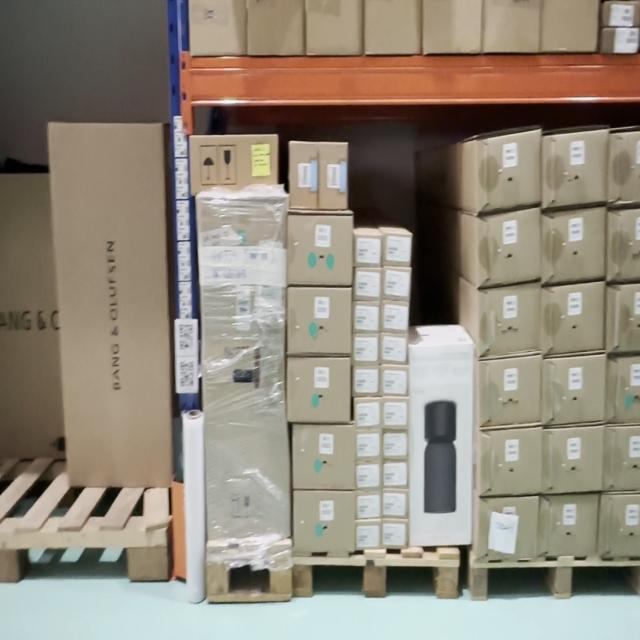box: (50, 121, 170, 487), (208, 199, 286, 542), (0, 173, 67, 459), (410, 348, 470, 544), (475, 128, 542, 210), (542, 129, 608, 208), (476, 210, 542, 289), (541, 209, 607, 284), (192, 135, 277, 193), (288, 213, 353, 285), (478, 284, 541, 358), (478, 356, 541, 427), (543, 284, 605, 354), (543, 426, 602, 493), (288, 290, 351, 352), (293, 426, 356, 488), (288, 360, 350, 422), (480, 429, 540, 492), (294, 494, 355, 550), (478, 500, 535, 557), (541, 497, 594, 552), (602, 496, 640, 555), (610, 130, 640, 203), (608, 211, 640, 278), (608, 286, 640, 352), (606, 428, 640, 490), (609, 359, 639, 422), (319, 142, 347, 208), (291, 142, 316, 208), (384, 234, 411, 266), (354, 269, 382, 299), (356, 234, 380, 266), (383, 400, 409, 429), (355, 400, 381, 428), (385, 270, 410, 298), (353, 336, 378, 364), (383, 302, 407, 331), (354, 368, 378, 397), (354, 303, 379, 330), (382, 367, 407, 394), (381, 337, 407, 362), (383, 491, 408, 517), (357, 521, 380, 549), (357, 431, 382, 456), (384, 434, 408, 458), (384, 464, 408, 488), (358, 463, 381, 488), (357, 493, 380, 518), (383, 522, 408, 545)
